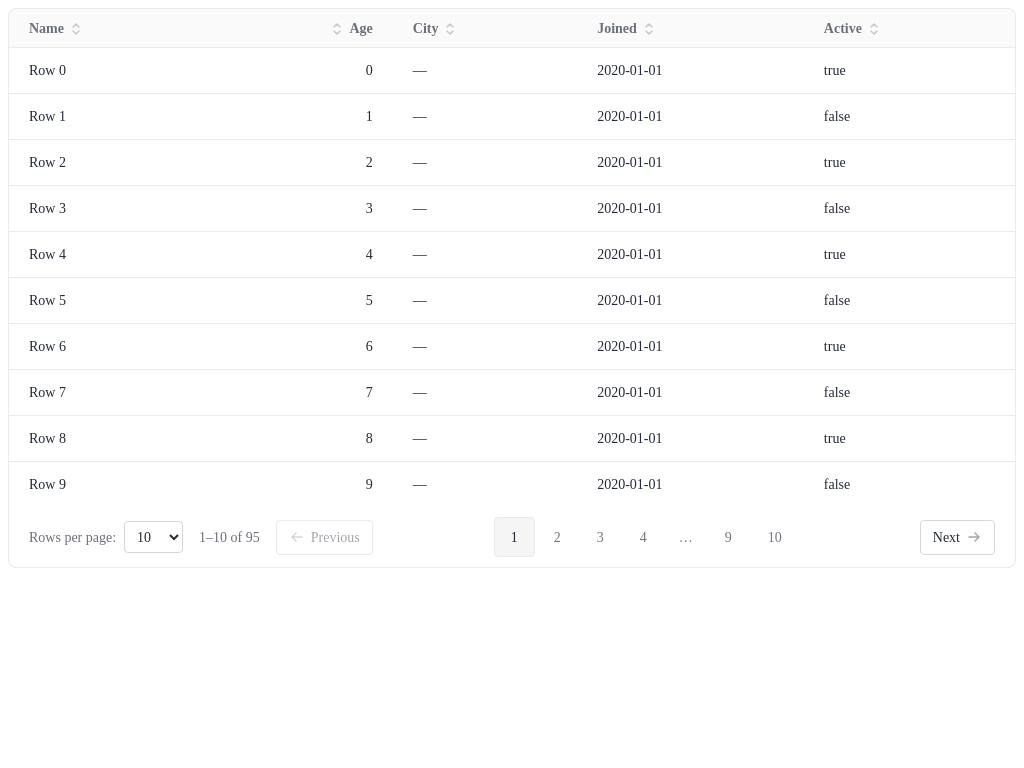
Test case: pagination UI › renders numbered pagination with aria-current and navigates
The width and height of the screenshot is (1024, 768).
Expected: the button "Previous" is disabled, [276,520,373,555]
Click the button named "Page 3". click: (600, 537)
box: [580,517,621,557]
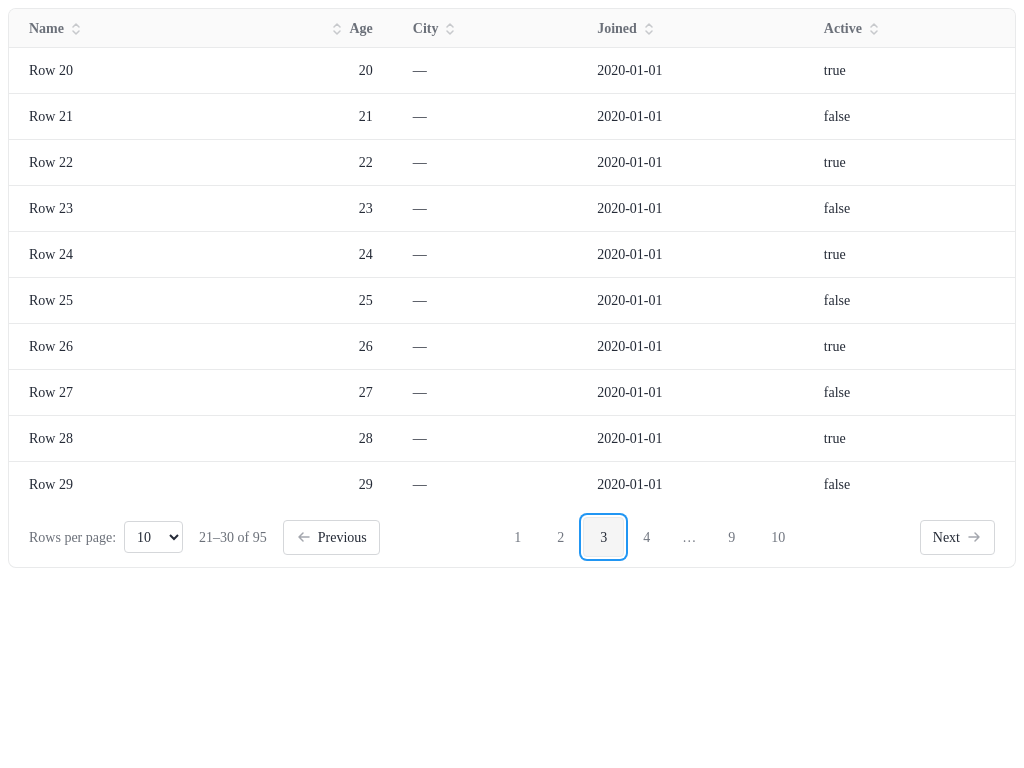
Click the button "Next". click: (957, 537)
box: [920,520,995,555]
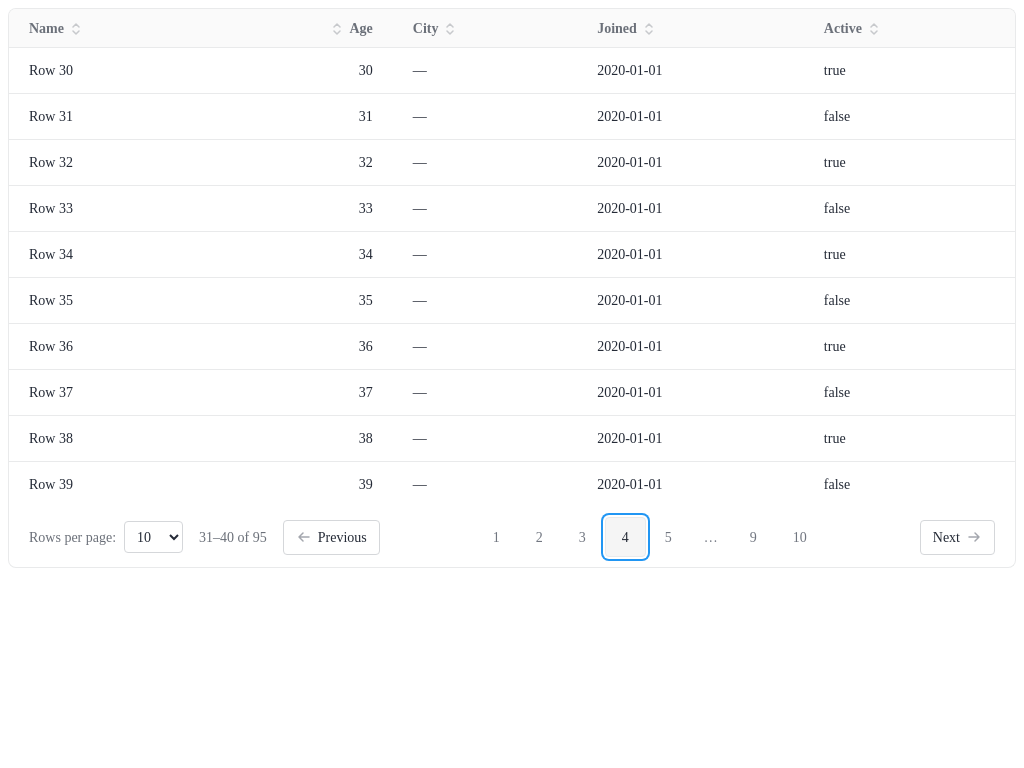
Click the button named "Page 10". click: (800, 537)
box: [776,517,824,557]
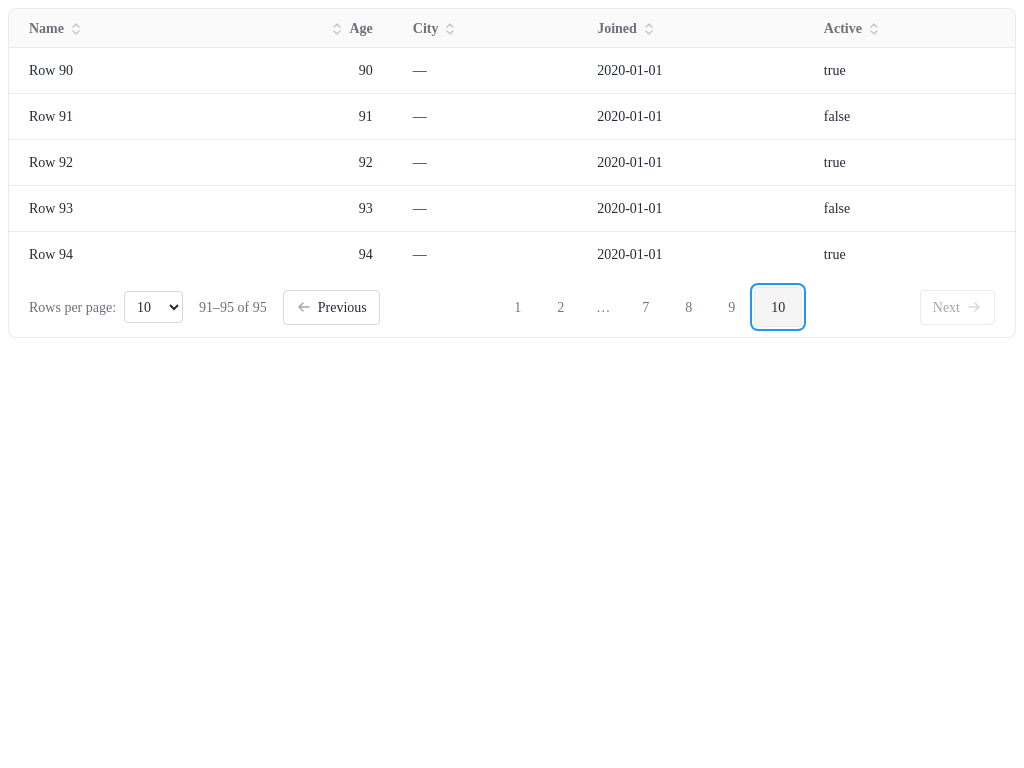
Result: the button "Next" is disabled at [920,290,995,325]
